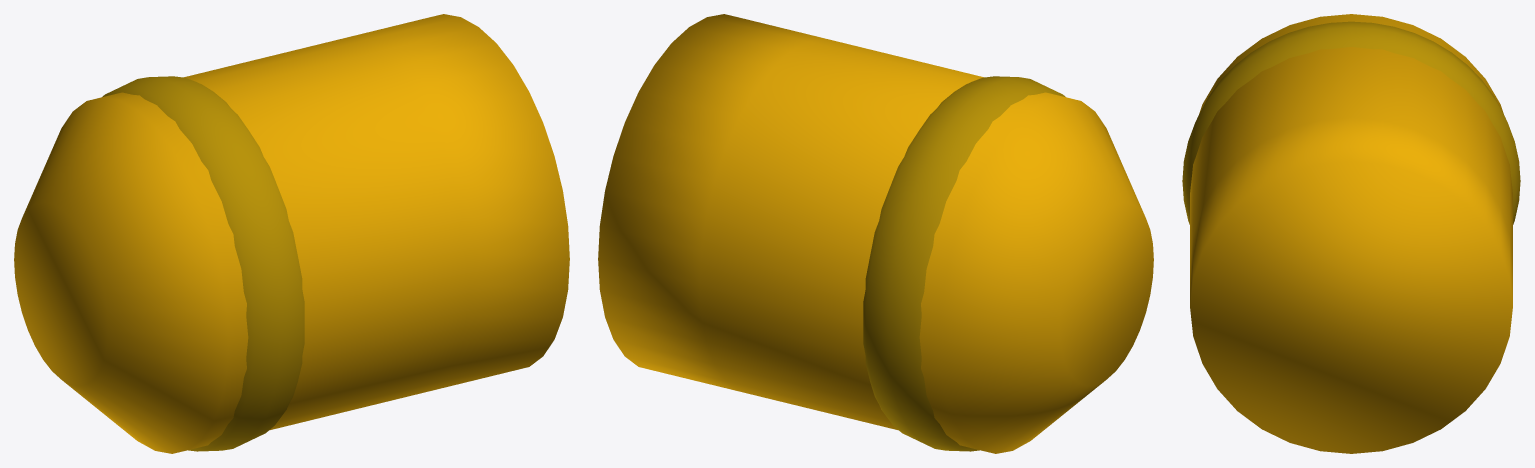
Rendered from Auto.fbx.
3 views of the same model, side by side, from view 1: azimuth 30°, elevation 25°; view 2: azimuth 150°, elevation 25°; view 3: azimuth 270°, elevation 25° (orthographic). The views are drawn at different scales.
Visible parts, largest first — view 1: Cylinder, Torus; view 2: Cylinder, Torus; view 3: Cylinder, Torus.
Boxes of the visible parts, x1,y1,x2,y2 form: Cylinder: [14, 14, 569, 453]; Torus: [102, 76, 304, 451]; Cylinder: [598, 14, 1153, 453]; Torus: [863, 76, 1065, 451]; Cylinder: [1190, 14, 1512, 453]; Torus: [1182, 21, 1520, 224].
Size of the model in its own units: 264 by 209 by 209.
